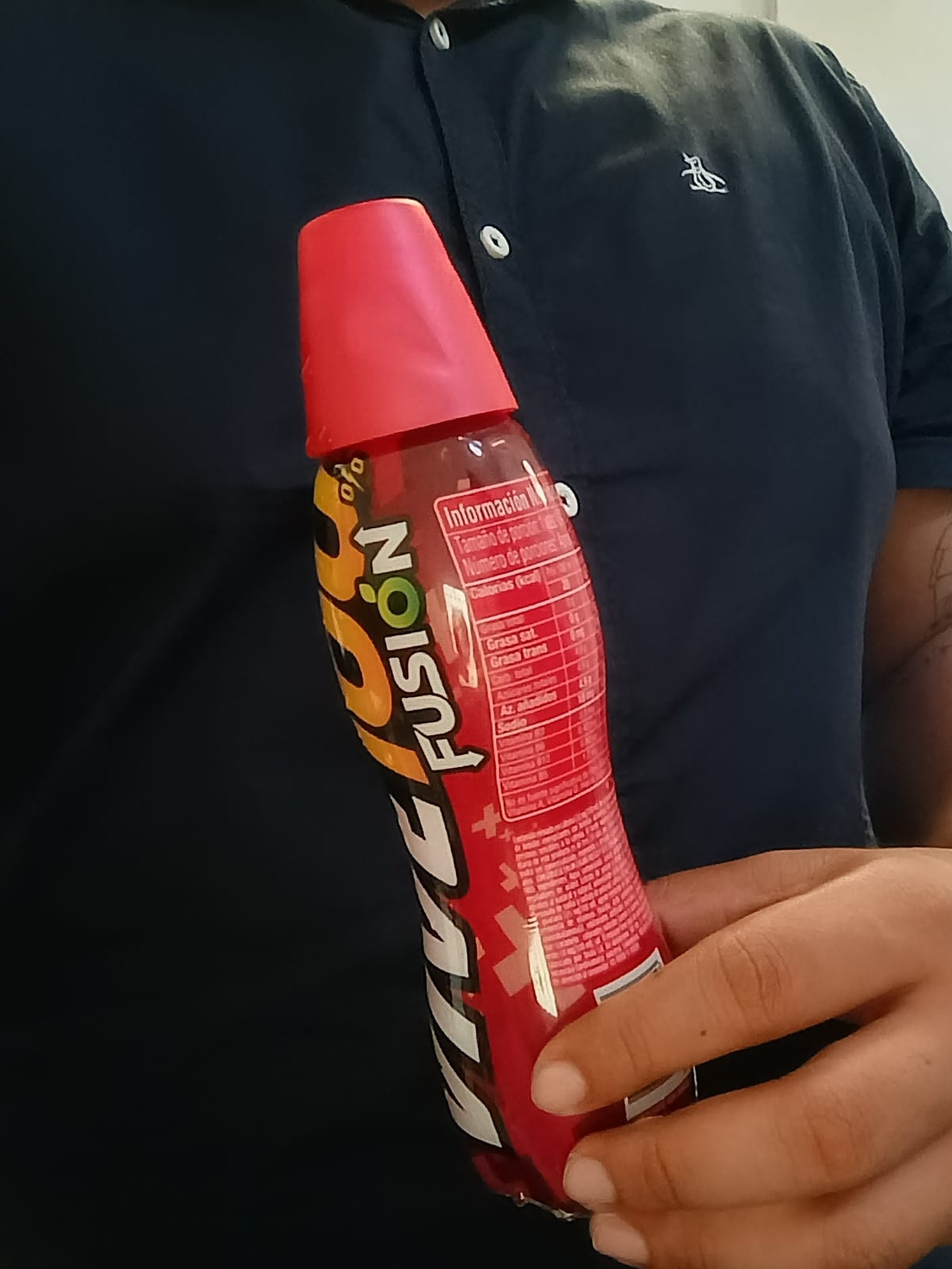Plastico: (303, 198, 706, 1225)
